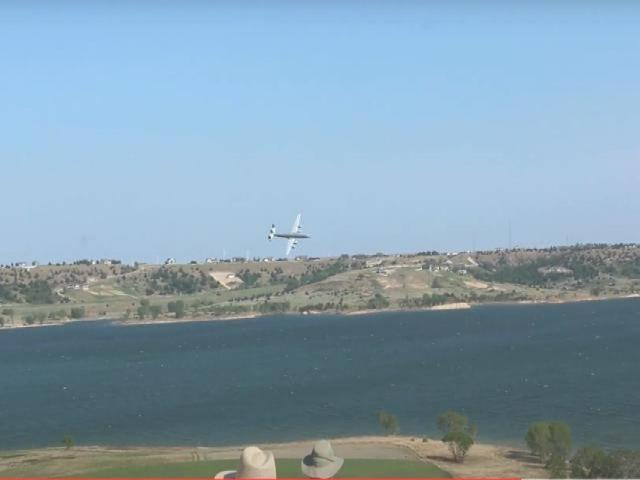iha: (267, 208, 318, 256)
